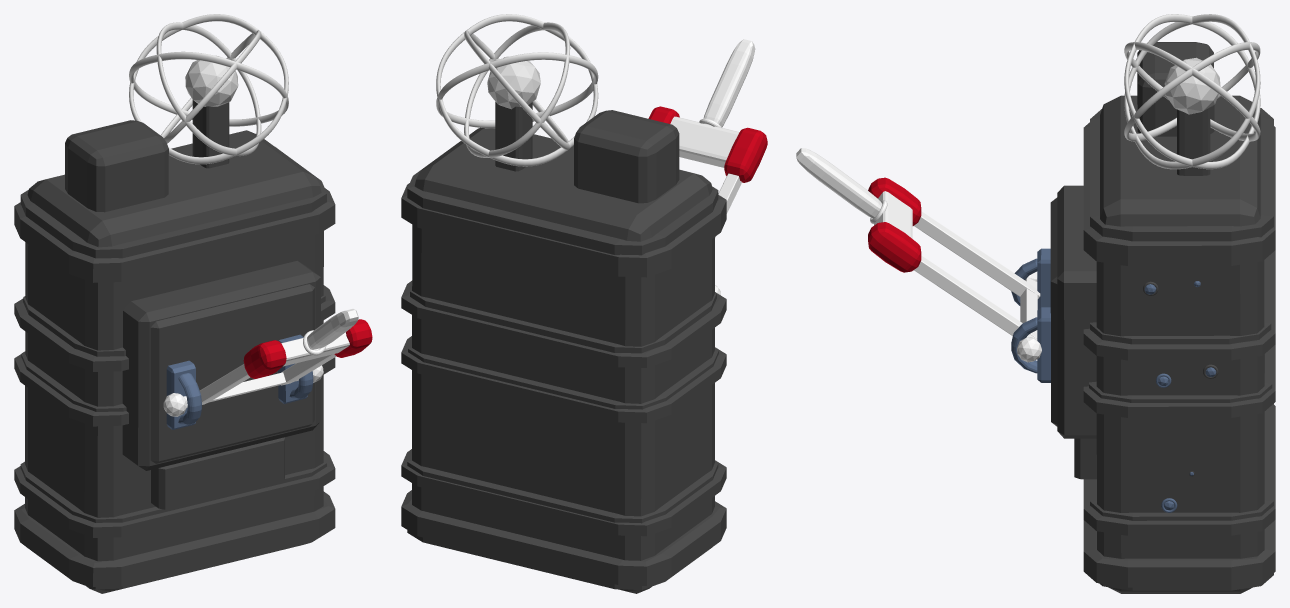
File: RoE_Water_Switch2_U.fbx
The picture shows the model from 3 angles, left to right: view 1: azimuth 30°, elevation 25°; view 2: azimuth 150°, elevation 25°; view 3: azimuth 270°, elevation 25°; orthographic projection. The views are drawn at different scales.
Parts seen in each view (by area): view 1: Switch_02_base, Switch_02_electric2, Switch_02_lever, Switch_02_electric1; view 2: Switch_02_base, Switch_02_electric2, Switch_02_lever, Switch_02_electric1; view 3: Switch_02_base, Switch_02_lever, Switch_02_electric2, Switch_02_electric1.
Part boxes in pixels (x1,y1,x2,y2): Switch_02_base: [14, 100, 335, 593]; Switch_02_electric2: [129, 14, 288, 164]; Switch_02_lever: [163, 309, 372, 416]; Switch_02_electric1: [185, 55, 238, 106]; Switch_02_base: [401, 102, 726, 593]; Switch_02_electric2: [436, 14, 598, 166]; Switch_02_lever: [648, 39, 767, 295]; Switch_02_electric1: [487, 56, 540, 109]; Switch_02_base: [1011, 42, 1275, 593]; Switch_02_lever: [796, 148, 1041, 362]; Switch_02_electric2: [1124, 14, 1260, 169]; Switch_02_electric1: [1164, 57, 1220, 114].
Bounding box in the file's own units: 206 × 380 × 312.
